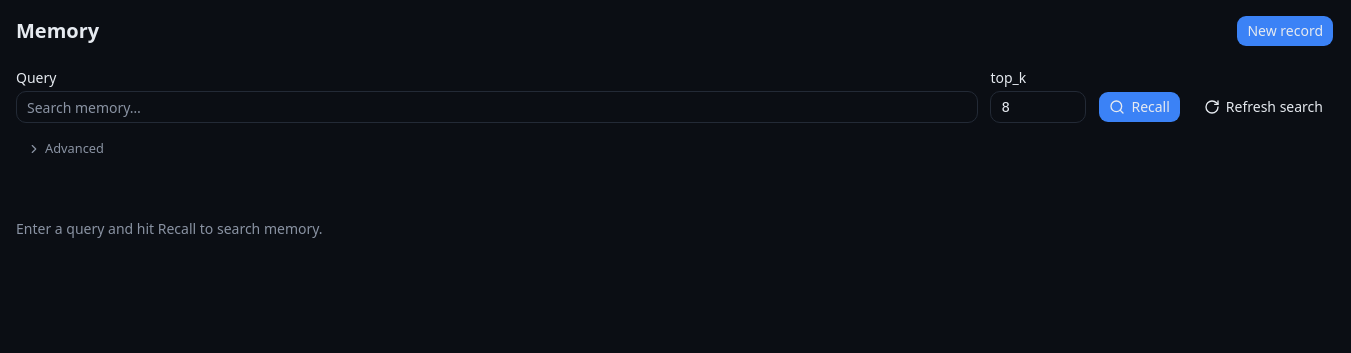
Test case: MemoryPage — search surface (gate cleared) › keeps the Advanced filter controls hidden until the toggle is activated
This screenshot has width=1351, height=353.
Expected: the field with placeholder "Search memory…" is shown, [16,91,978,123]
Expected: the field labelled "Score threshold" is not shown
Step 1. Click the button "Advanced" → [65, 149], box [16,135,115,163]
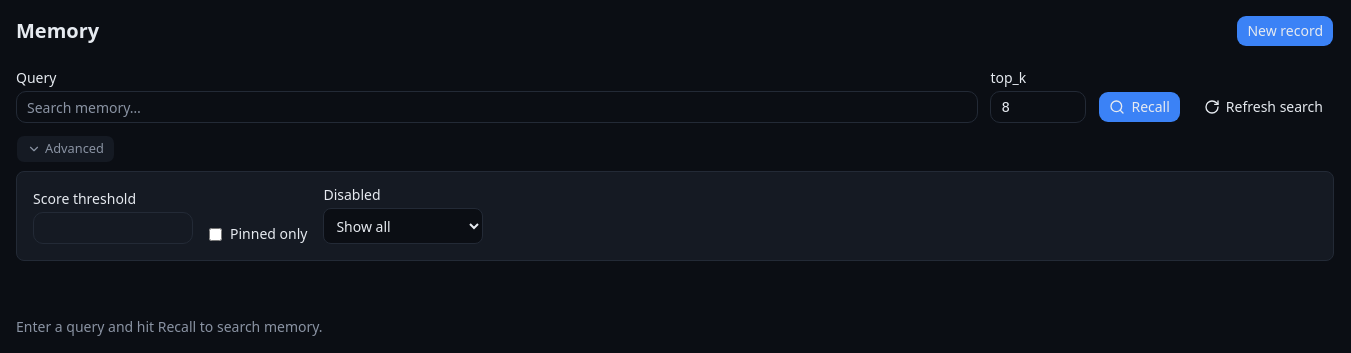
Now the text "Pinned only" is shown, box [209,224,307,244]
